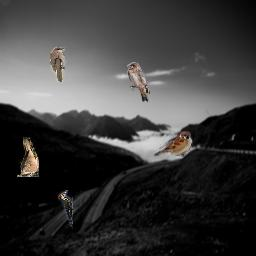Cuckoo: (17, 137, 39, 177), (50, 47, 65, 82)
Sparrow: (154, 131, 194, 157)
Swallow: (127, 62, 150, 102)
Woodpecker: (58, 190, 73, 230)
